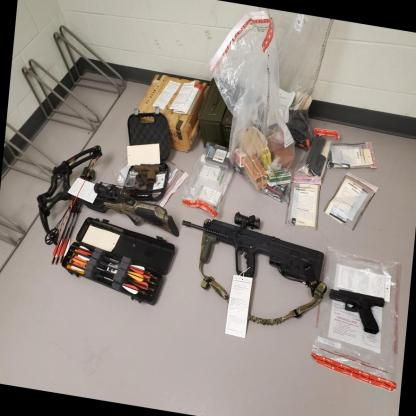rifle: (177, 214, 324, 294)
